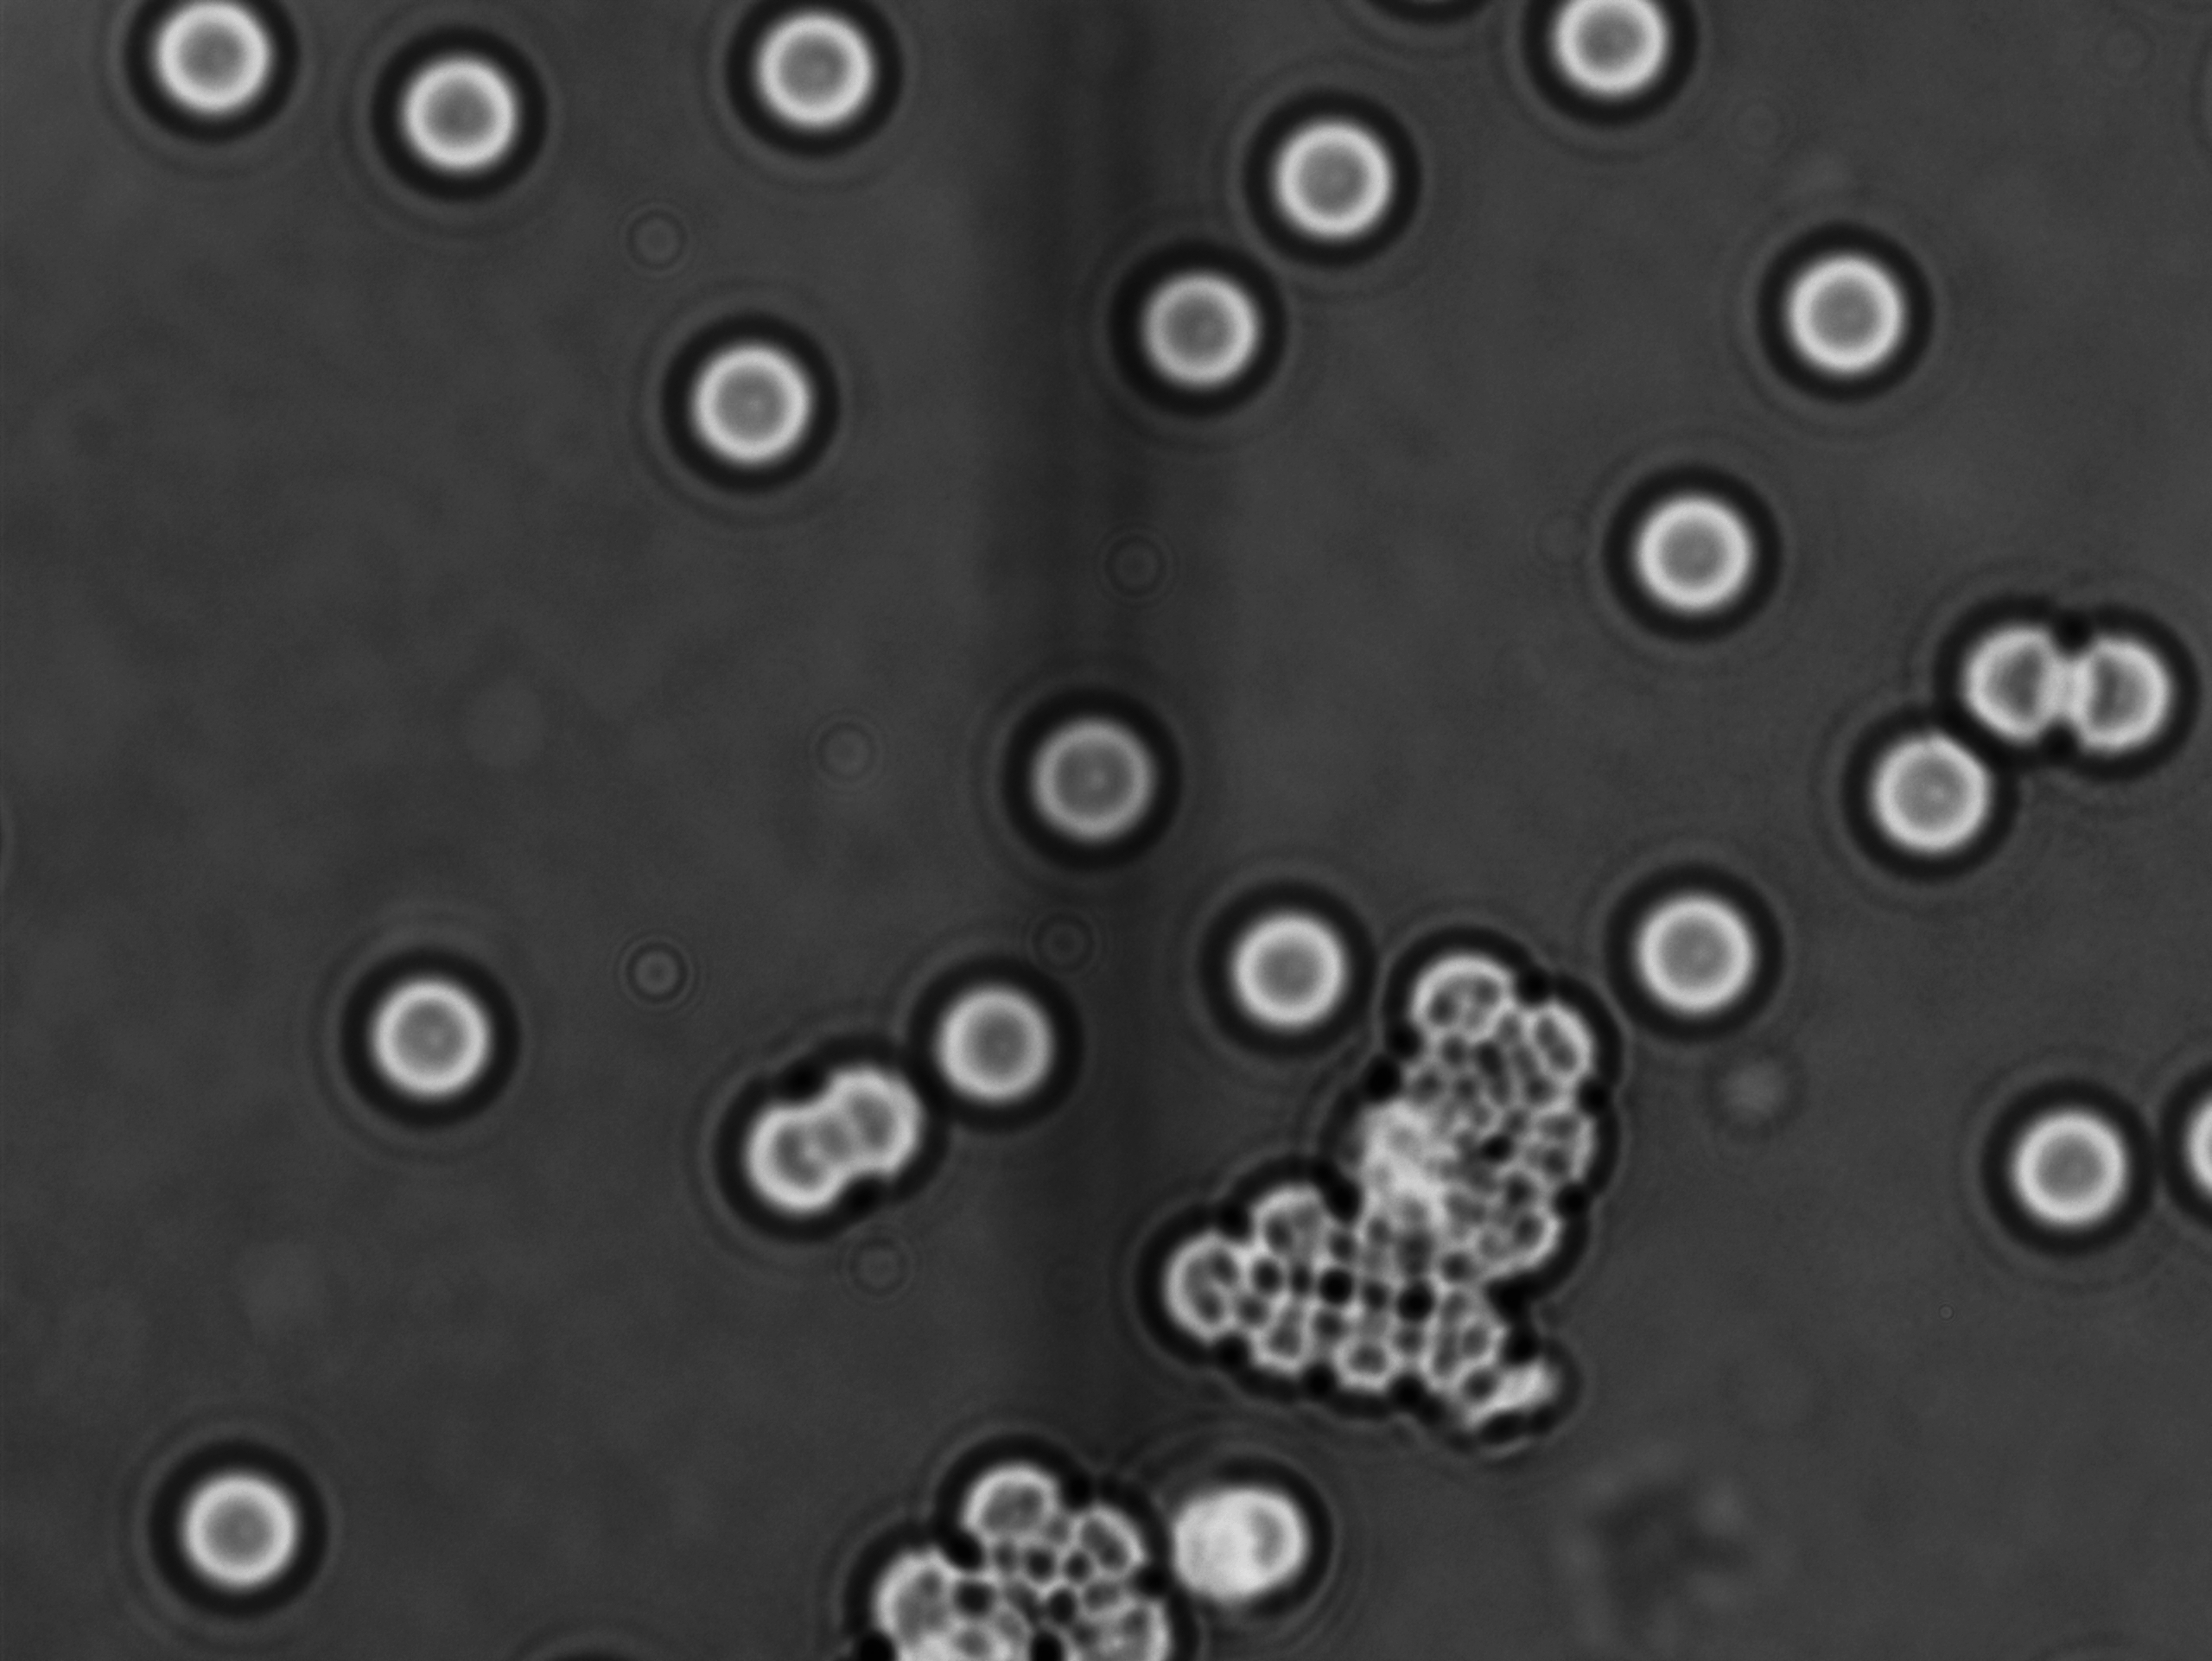depth:60: (122, 1436, 349, 1649), (1968, 1059, 2179, 1260), (654, 307, 865, 504), (1176, 865, 1387, 1059), (1743, 227, 1957, 415), (1594, 459, 1797, 653), (1106, 232, 1303, 429), (1000, 675, 1190, 878), (1840, 694, 2029, 899), (1912, 571, 2100, 773), (1235, 82, 1436, 269), (1600, 865, 1804, 1049), (338, 942, 530, 1124), (909, 949, 1096, 1131), (684, 1054, 870, 1235), (366, 26, 556, 201), (2060, 588, 2212, 803)
